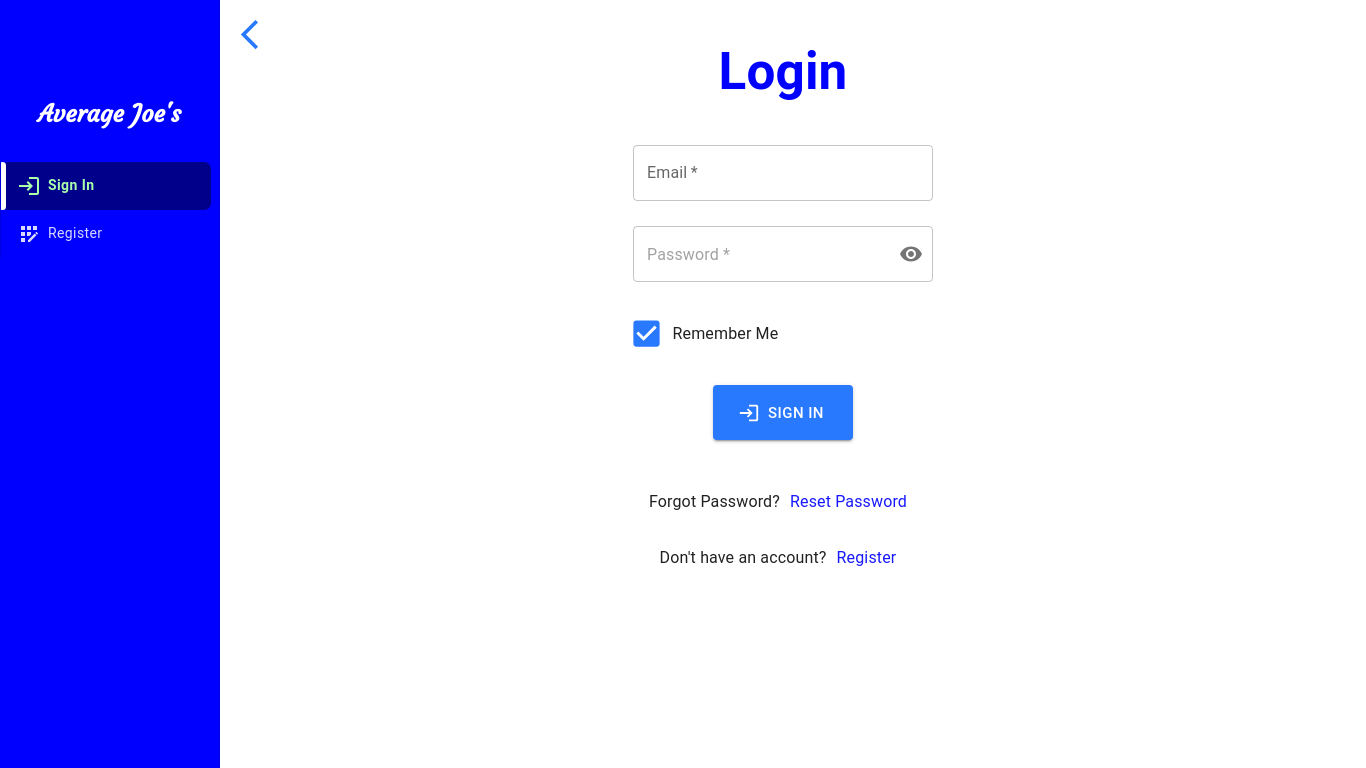
Test: Login Page › should not log in a non-existing user
The width and height of the screenshot is (1366, 768).
Step 1. Type "idontexist@email.com" into the field named "email" → (783, 173), box x1=633 y1=145 x2=933 y2=201
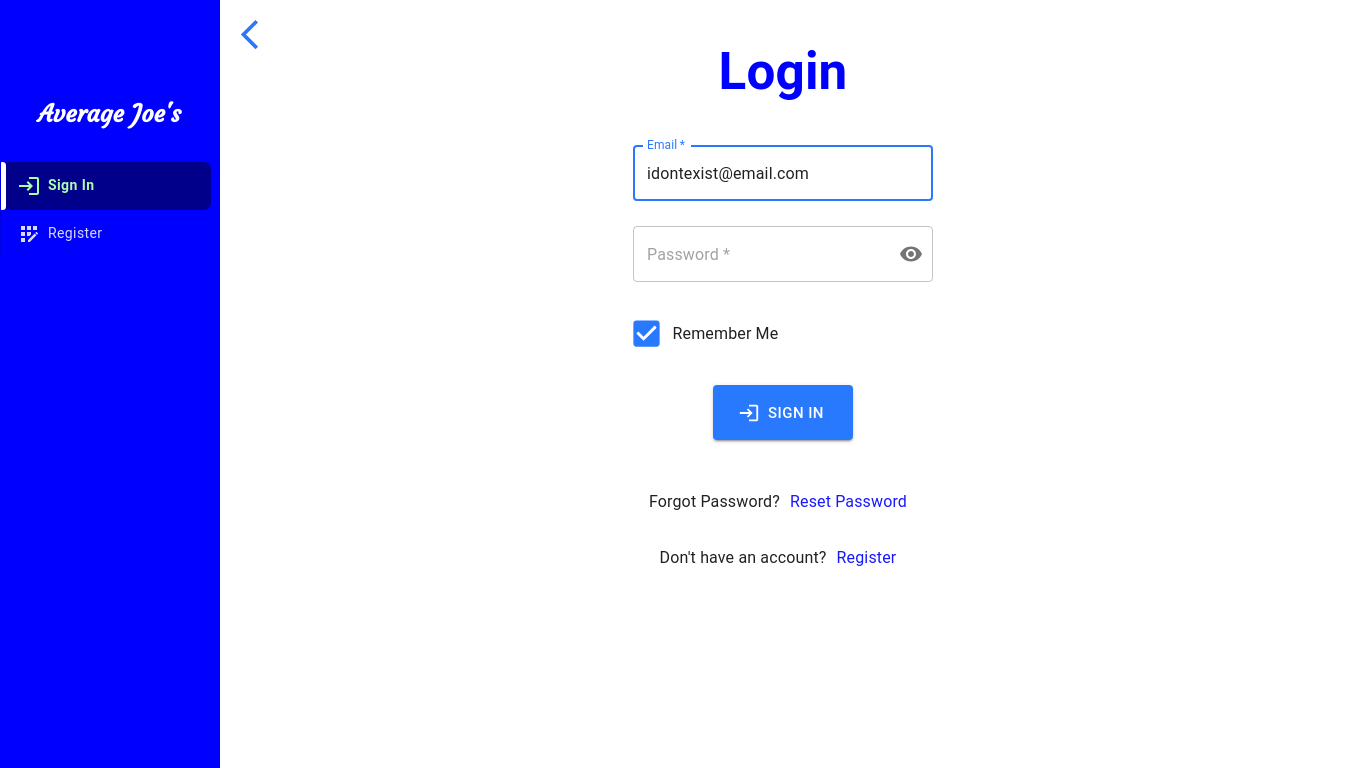
Step 2. Type "passWord1" into the password field named "password" → (758, 254), box x1=633 y1=226 x2=883 y2=282
Then press Enter
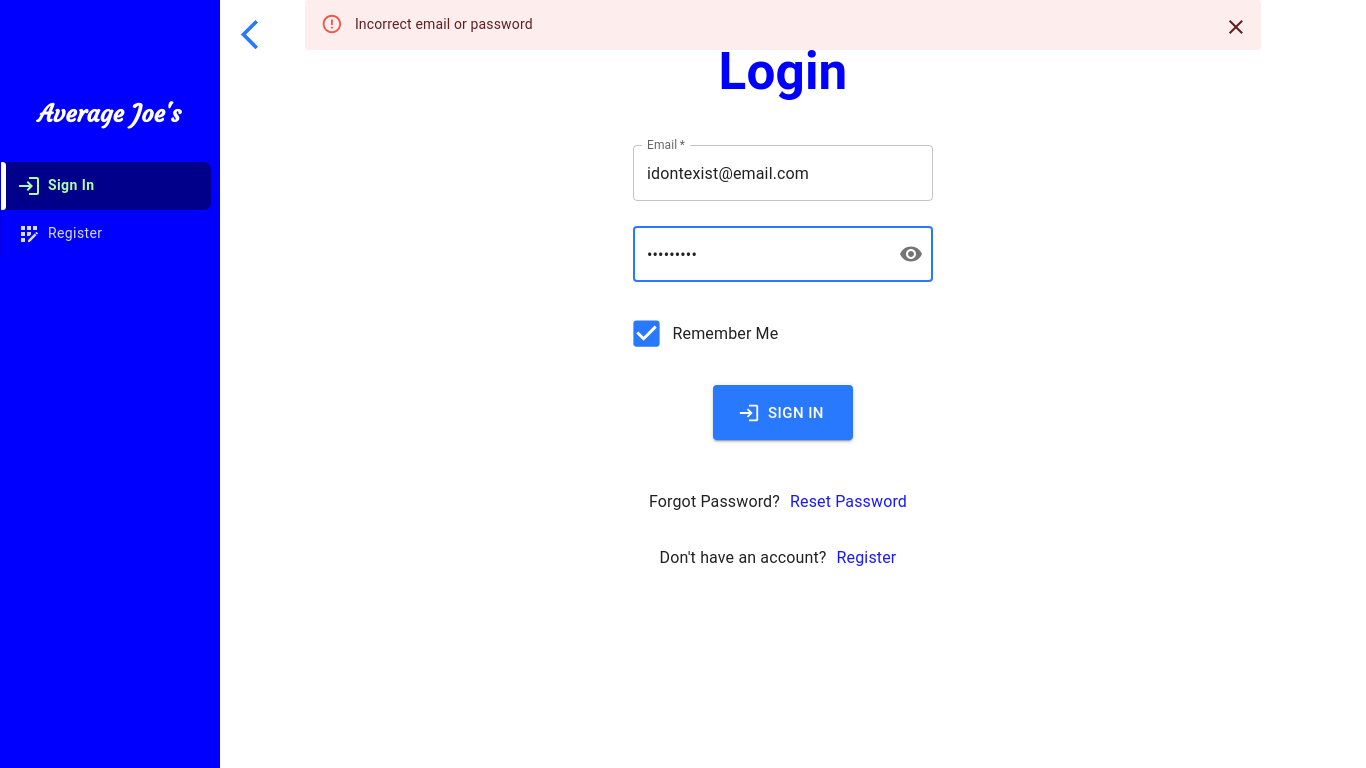
Check: the text "Incorrect email or password" is shown, box x1=355 y1=16 x2=533 y2=32
